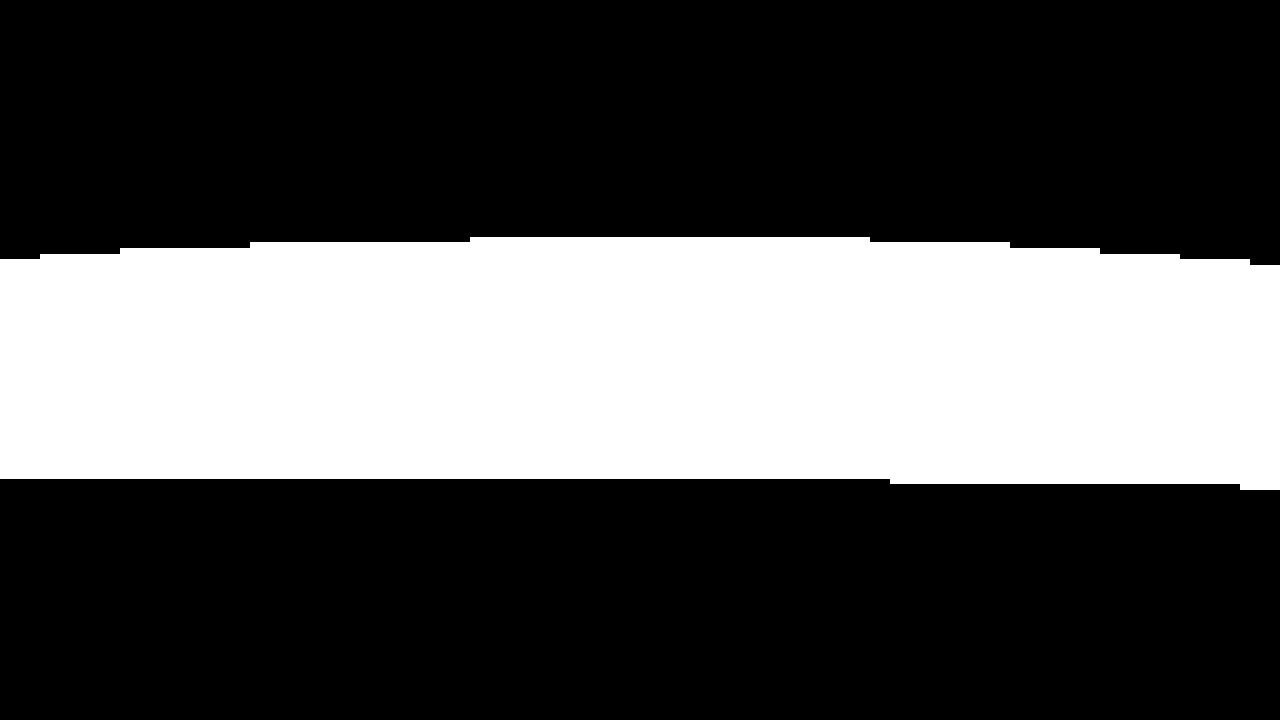Turbine: (16, 212, 1257, 515)
